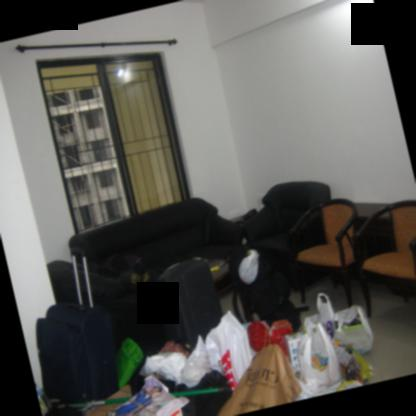suitcase: (36, 302, 118, 404), (156, 259, 223, 352)
